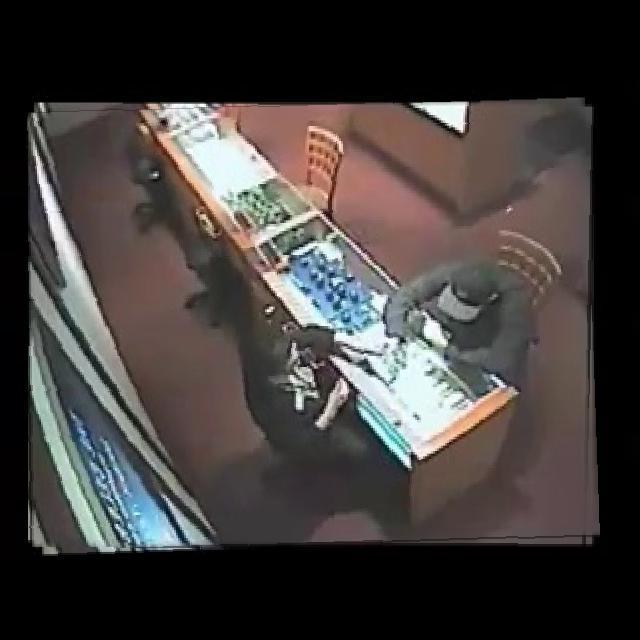normal: (28, 102, 596, 551)
